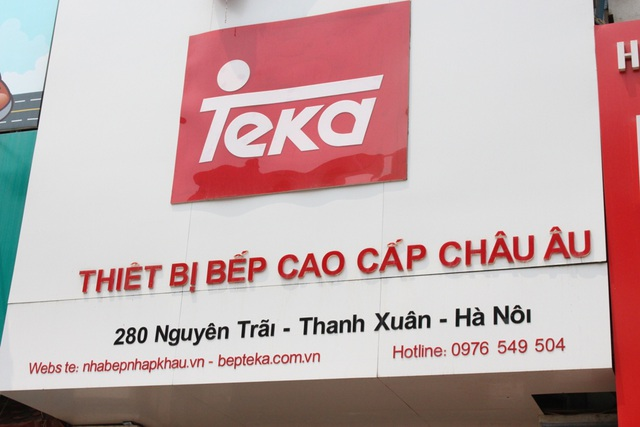banner: (1, 29, 605, 389)
